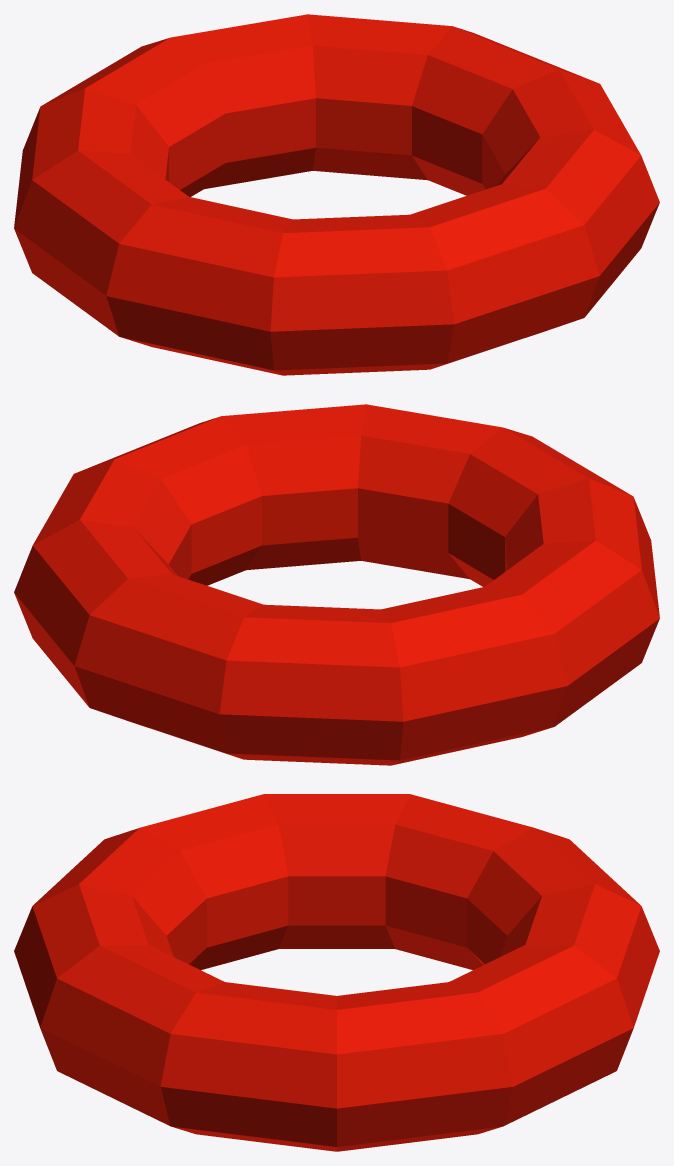
File: ObjetoPH.glb
3 renders of one model, top to bottom at view 1: azimuth 30°, elevation 25°; view 2: azimuth 150°, elevation 25°; view 3: azimuth 270°, elevation 25°, orthographic.
Parts seen in each view (by area): view 1: Torus; view 2: Torus; view 3: Torus.
Part boxes in pixels (x1,y1,x2,y2): Torus: (14,14,659,375); Torus: (14,404,659,765); Torus: (14,794,659,1151).
Bounding box in the file's own units: 2.25 × 0.5515 × 2.28.
